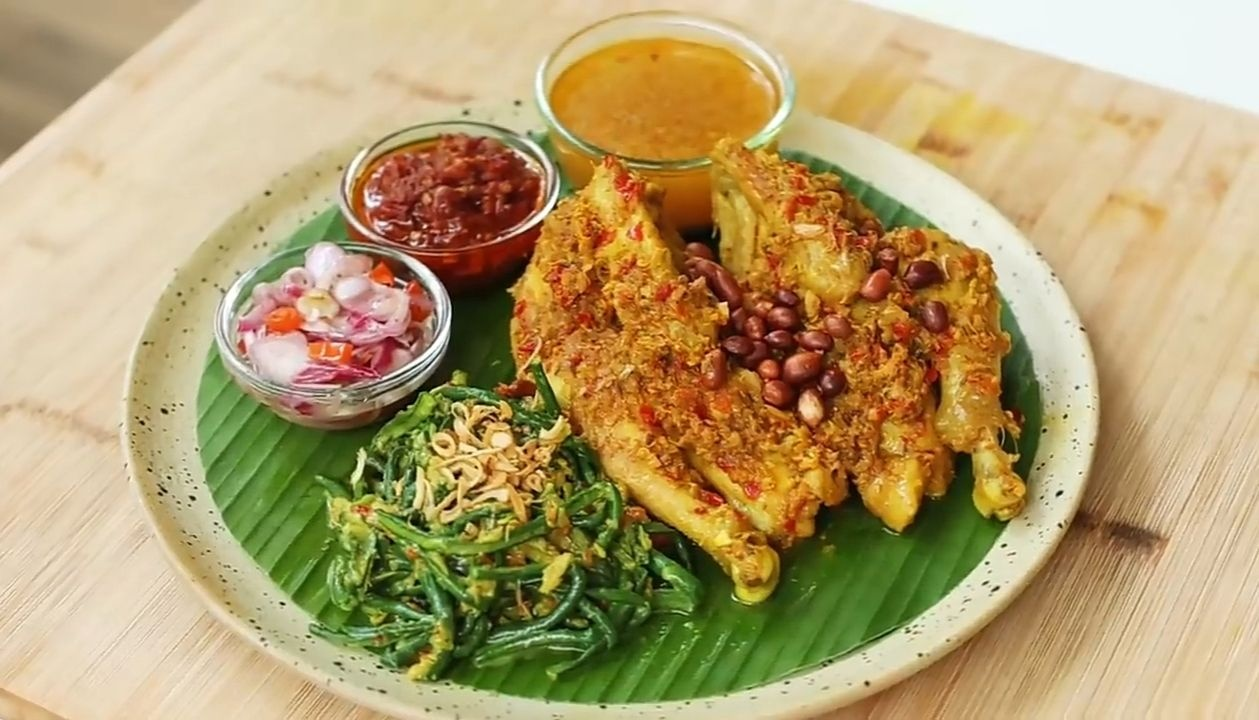ayam_betutu: (512, 150, 1031, 604)
